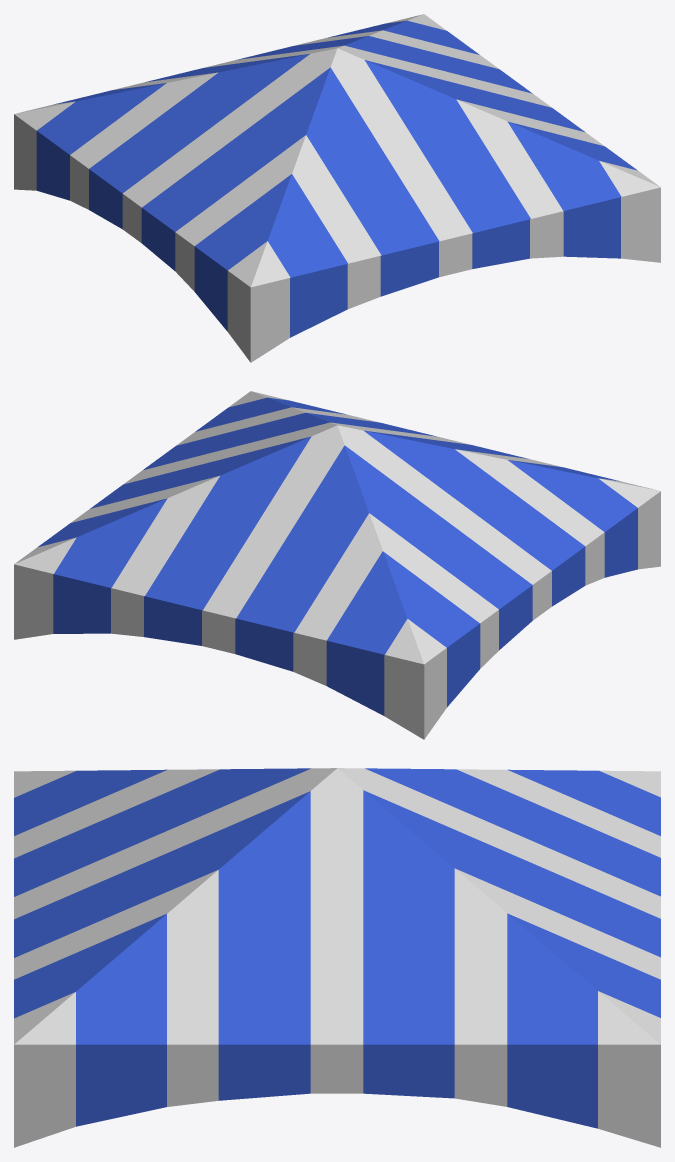
The model's file is gazebo_striped_blue.dae.
3 renders of one model, top to bottom at view 1: azimuth 30°, elevation 25°; view 2: azimuth 150°, elevation 25°; view 3: azimuth 270°, elevation 25°, orthographic. The views are drawn at different scales.
Parts seen in each view (by area): view 1: gazebo_striped_blue_a015; view 2: gazebo_striped_blue_a015; view 3: gazebo_striped_blue_a015.
Boxes of the visible parts, <box> form: gazebo_striped_blue_a015: <box>14,14,660,362</box>; gazebo_striped_blue_a015: <box>14,391,660,739</box>; gazebo_striped_blue_a015: <box>14,768,660,1147</box>.
Size of the model in its own units: 6 by 6 by 2.49.
